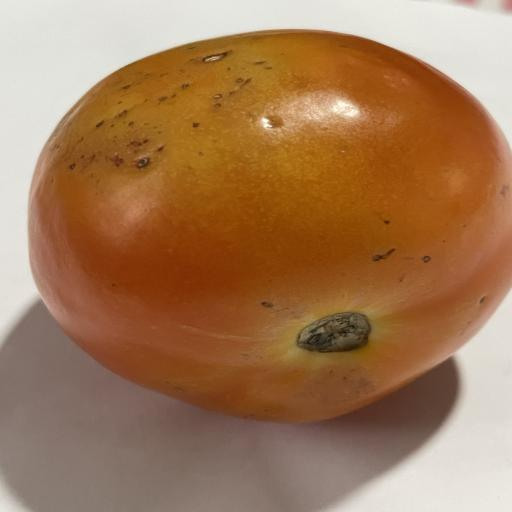unripe: (29, 30, 512, 422)
